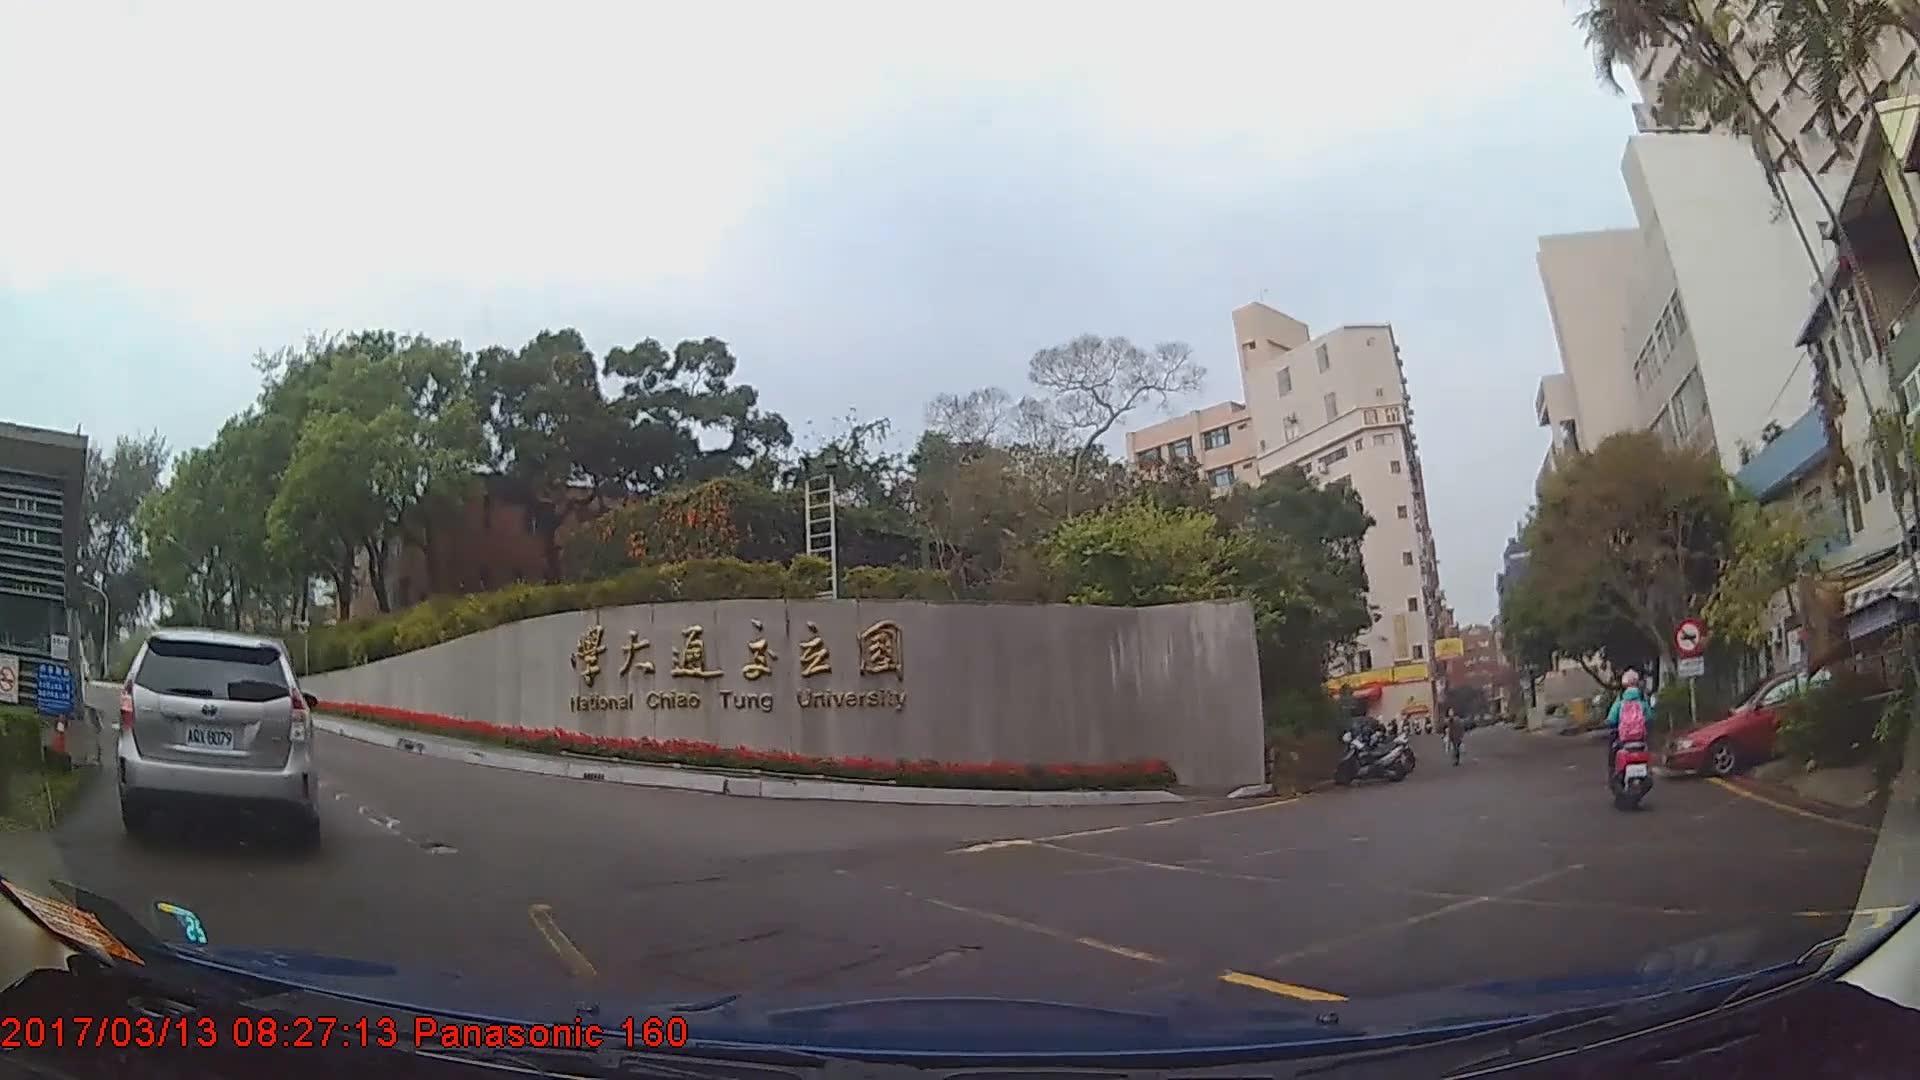pedestrian: (1441, 707, 1468, 767)
rider: (1611, 663, 1658, 808)
vehicle: (118, 625, 322, 849), (1662, 665, 1873, 777)
